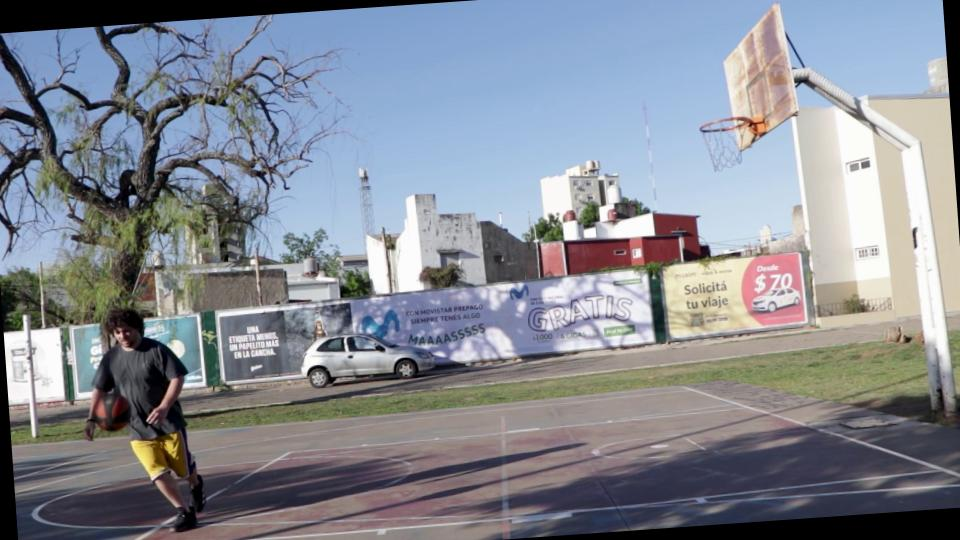hoop: (698, 114, 754, 134)
